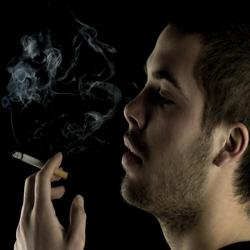smoking: (9, 147, 88, 250)
